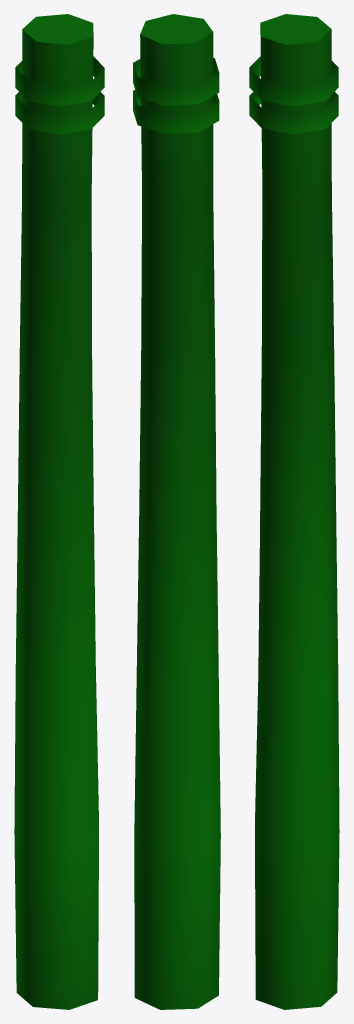
The model's file is timber_stilt_post.glb.
The picture shows the model from 3 angles, left to right: view 1: azimuth 90°, elevation 25°; view 2: azimuth 210°, elevation 25°; view 3: azimuth 270°, elevation 25°; orthographic projection.
Parts seen in each view (by area): view 1: timber_stilt_post; view 2: timber_stilt_post; view 3: timber_stilt_post.
Part boxes in pixels (bbox=[...]): timber_stilt_post: bbox=[14, 14, 104, 1009]; timber_stilt_post: bbox=[133, 14, 220, 1009]; timber_stilt_post: bbox=[249, 14, 339, 1009].
Size of what is drawn, in the model's own units: 0.2016 by 2.4 by 0.2034.
